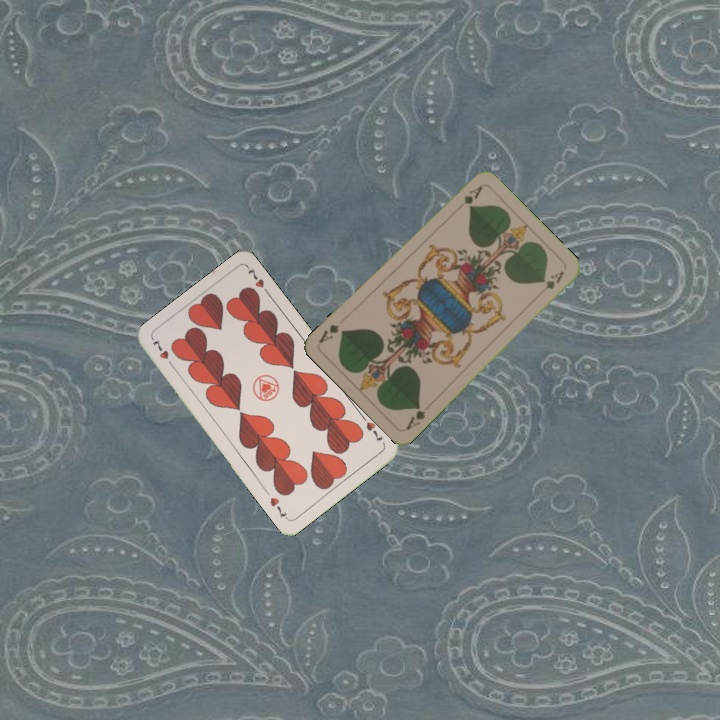GA: (451, 182, 485, 214), (402, 401, 428, 433)
H7: (148, 335, 177, 370), (358, 412, 385, 445)
